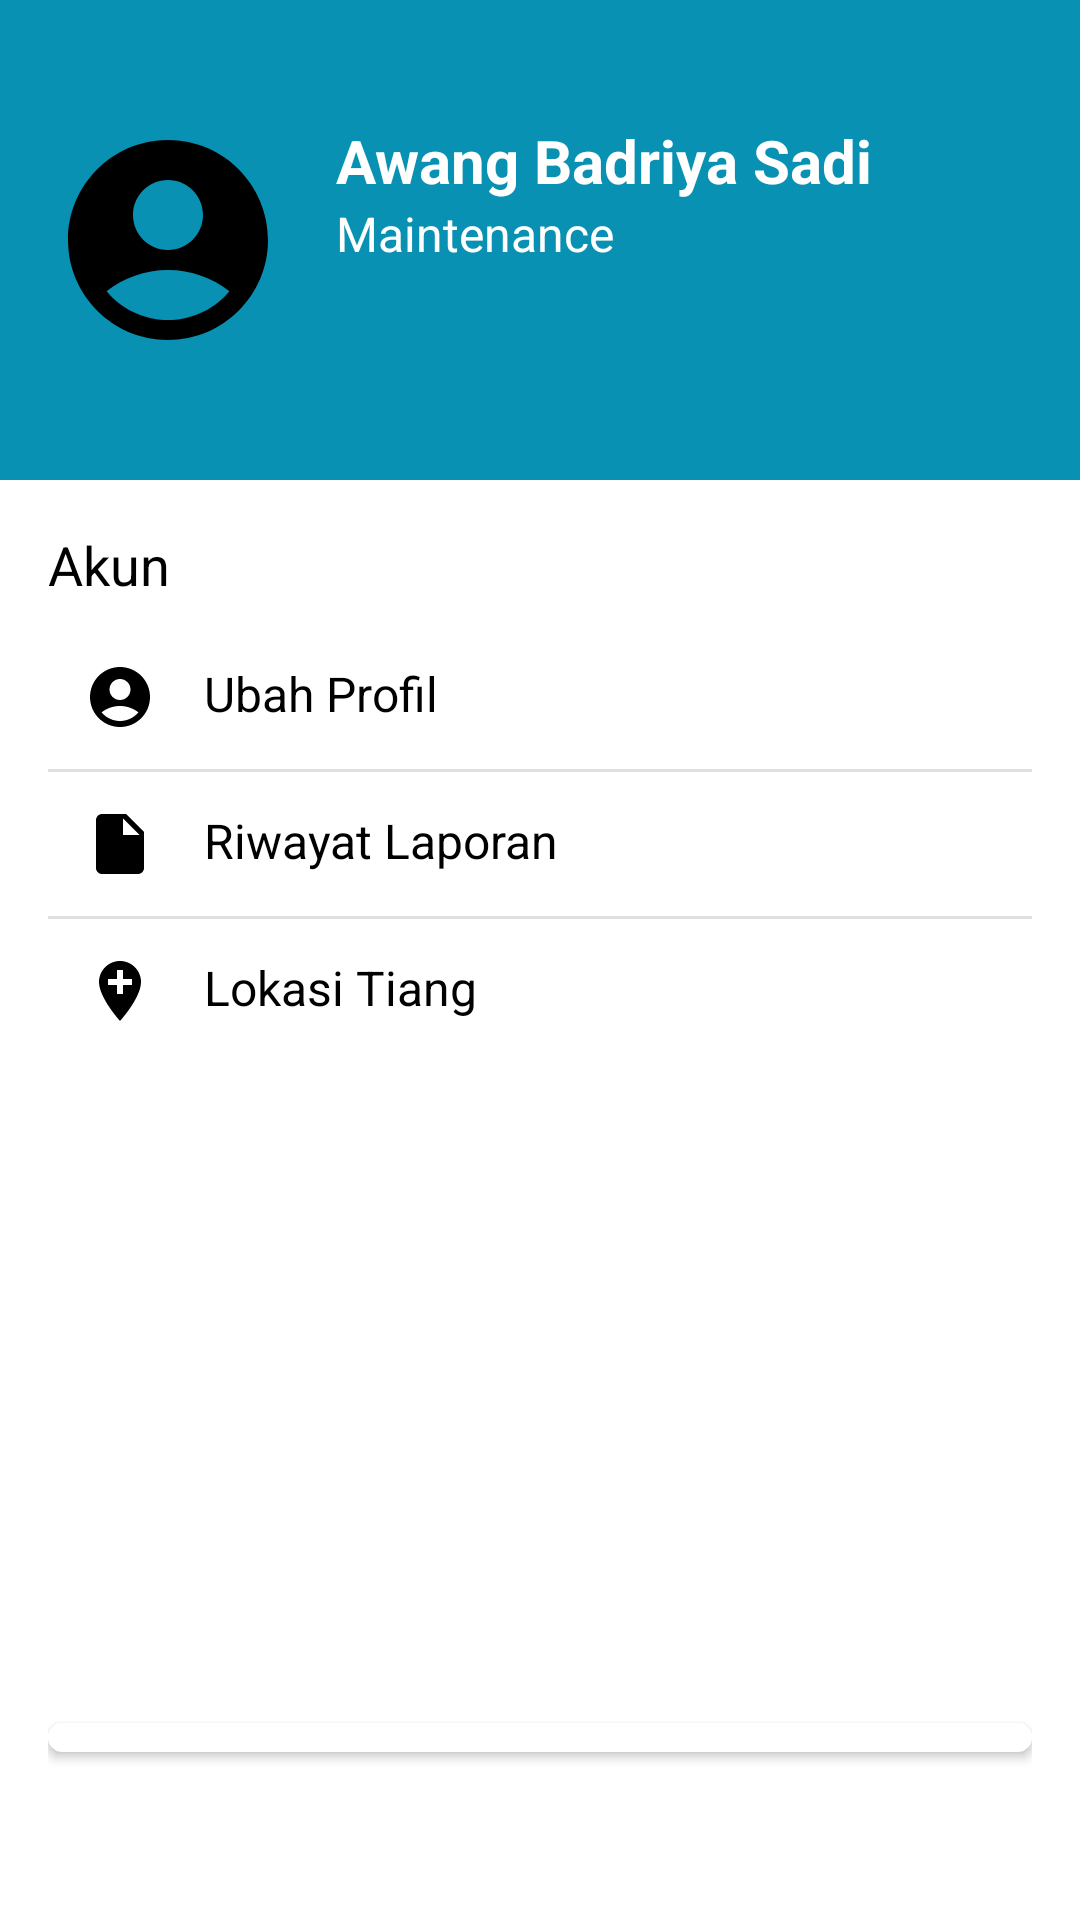

Named icons in this screenshot (1080 × 1920) and their bounding boxes, BBox(x1, y1, x2, y2):
profile: BBox(68, 140, 268, 340), BBox(90, 667, 150, 727)
